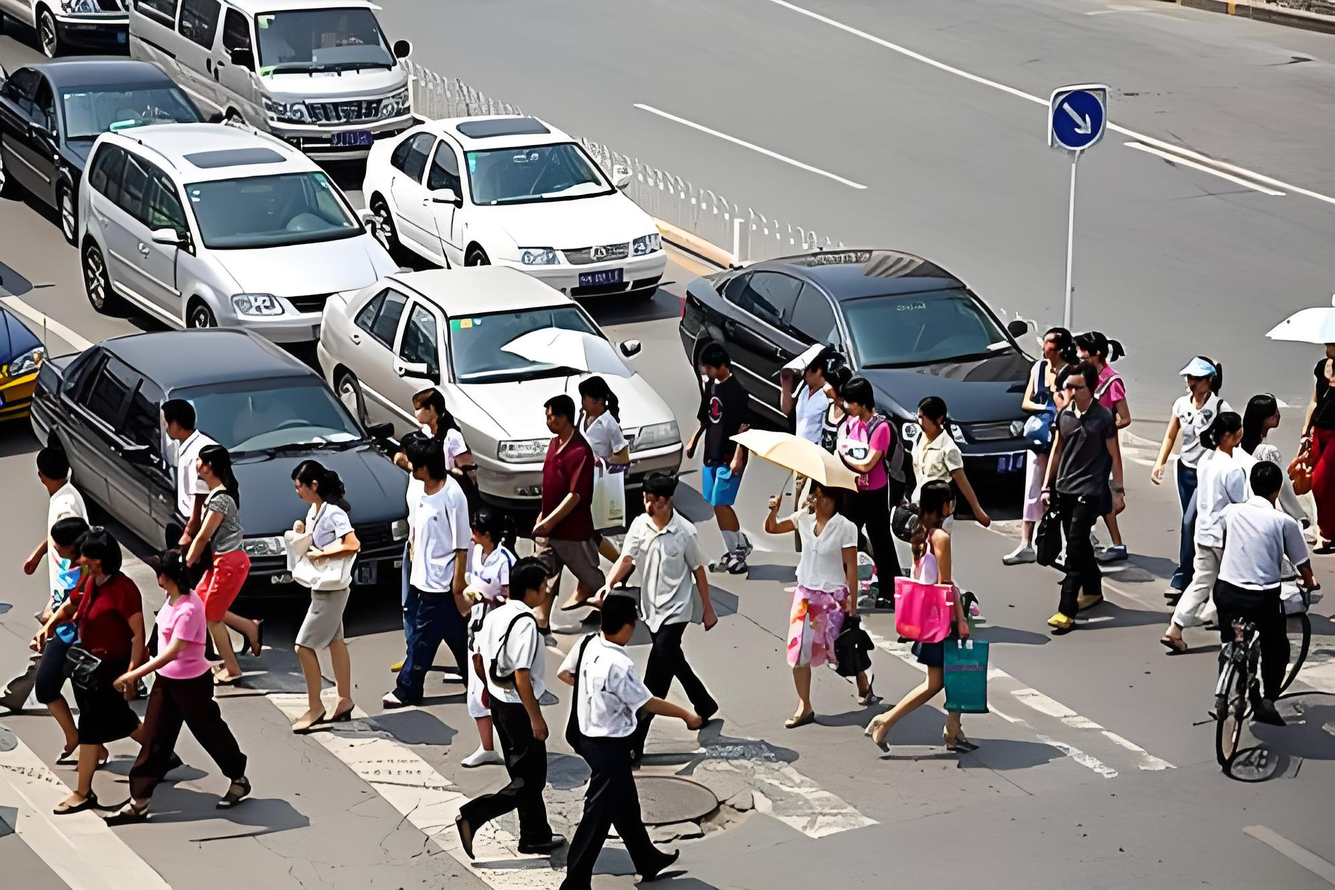car: (1, 42, 338, 250), (0, 0, 353, 148)
person: (42, 359, 299, 798), (479, 500, 716, 884), (465, 525, 601, 875), (603, 484, 734, 795), (1184, 436, 1310, 726), (1030, 326, 1128, 633), (881, 504, 990, 755), (279, 456, 377, 726), (403, 459, 492, 721), (772, 507, 864, 737), (1253, 444, 1326, 722), (353, 462, 430, 724), (509, 390, 601, 597), (1141, 370, 1208, 613)
